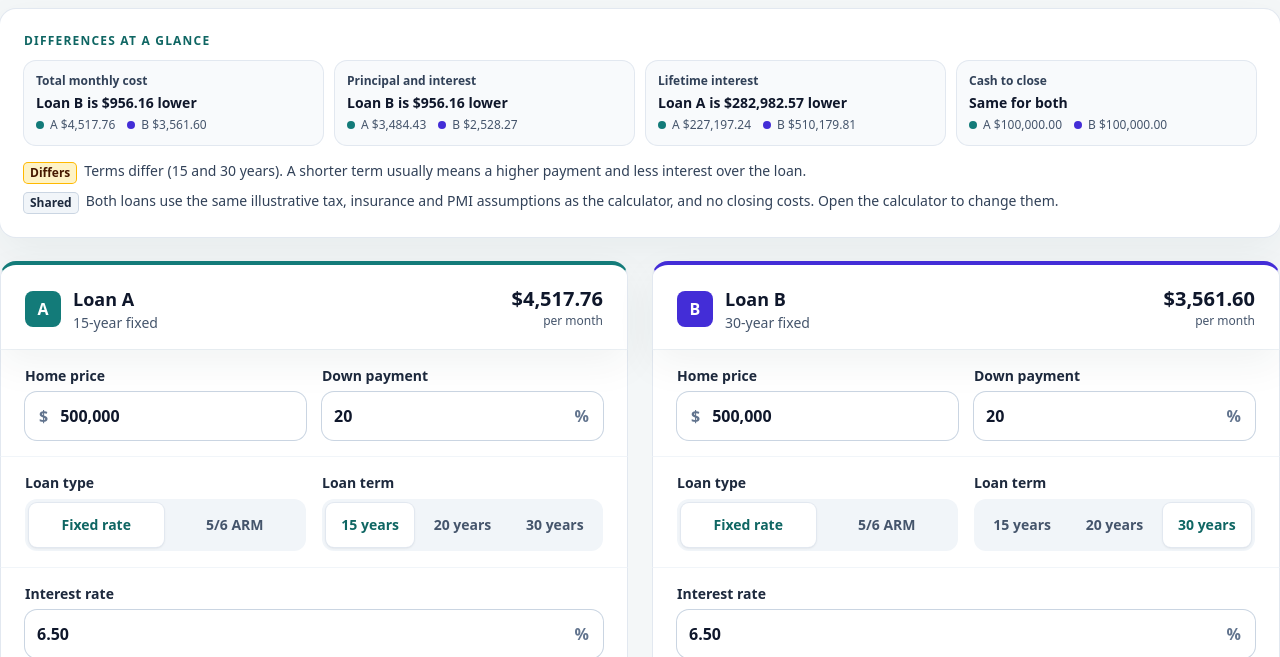
CompareView › labels an ARM loan as a hypothetical rate and warns it is not equivalent
Click the radio button labelled "5/6 ARM" below "30-year fixed" at (887, 524), box [858,515,916,534]
(page scrolled)
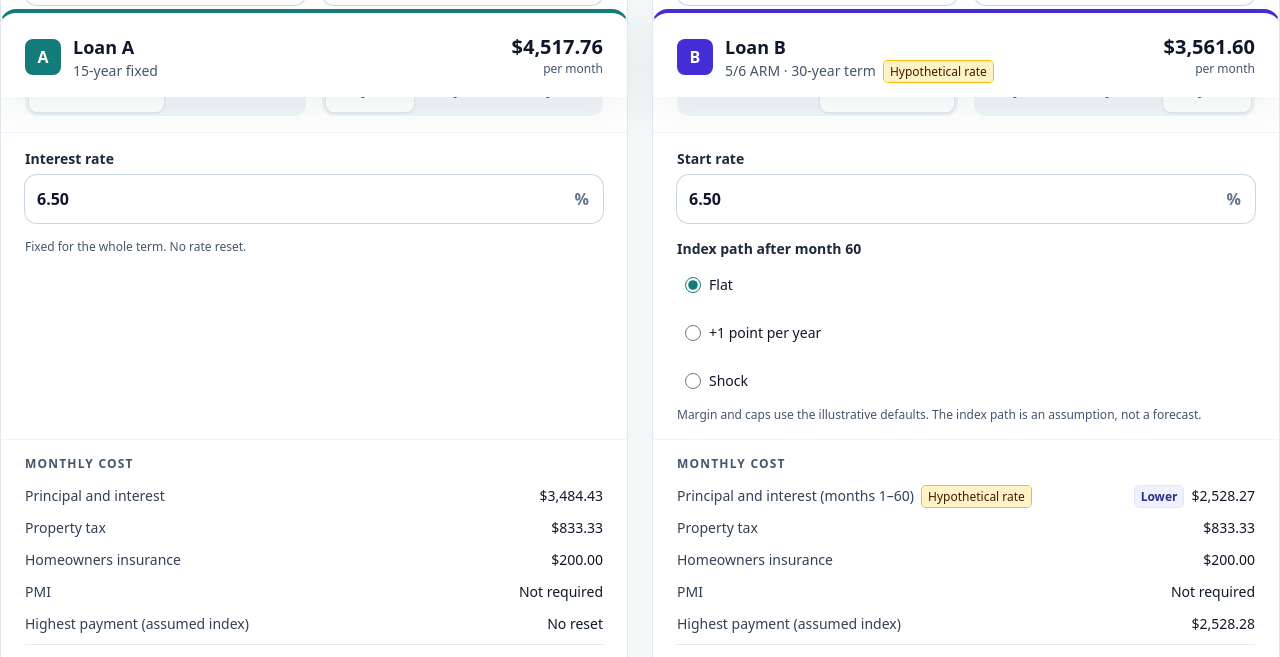
Expected: the text "Hypothetical rate" next to "5/6 ARM · 30-year term" is shown, [890,63,987,80]
Expected: the text "Index path after month 60" is shown, [677,239,861,259]
